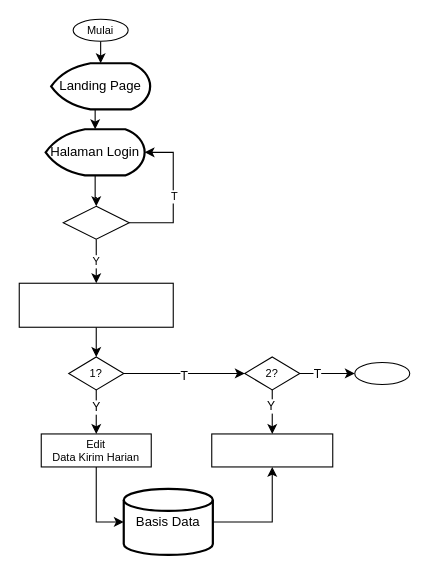
Image size: 429x575. Some labels were removed from this diagram. The centre of each missing label's shape, as x and y in pixels:
"Login?" goes at [95,222].
"Menu : 1. Data Kirim Harian 2. Rekap Distribusi" goes at [95,304].
"Rekap Distribusi Koran" goes at [272,450].
"Selesai" goes at [382,372].
